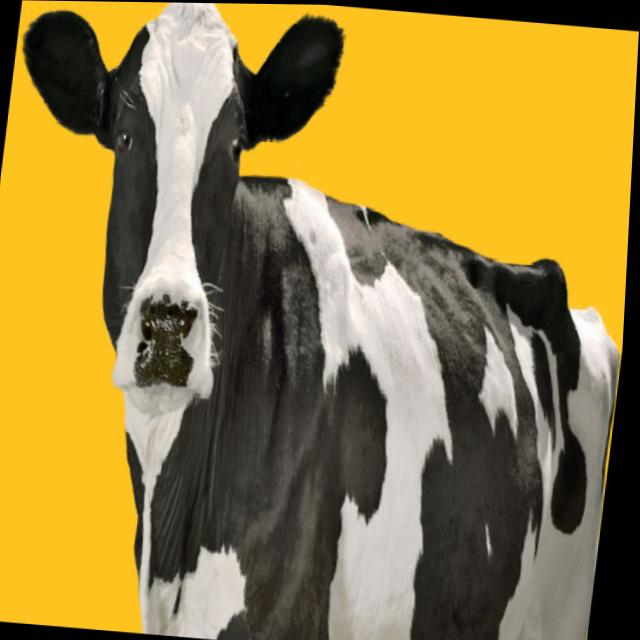cowFace: (0, 0, 354, 435)
